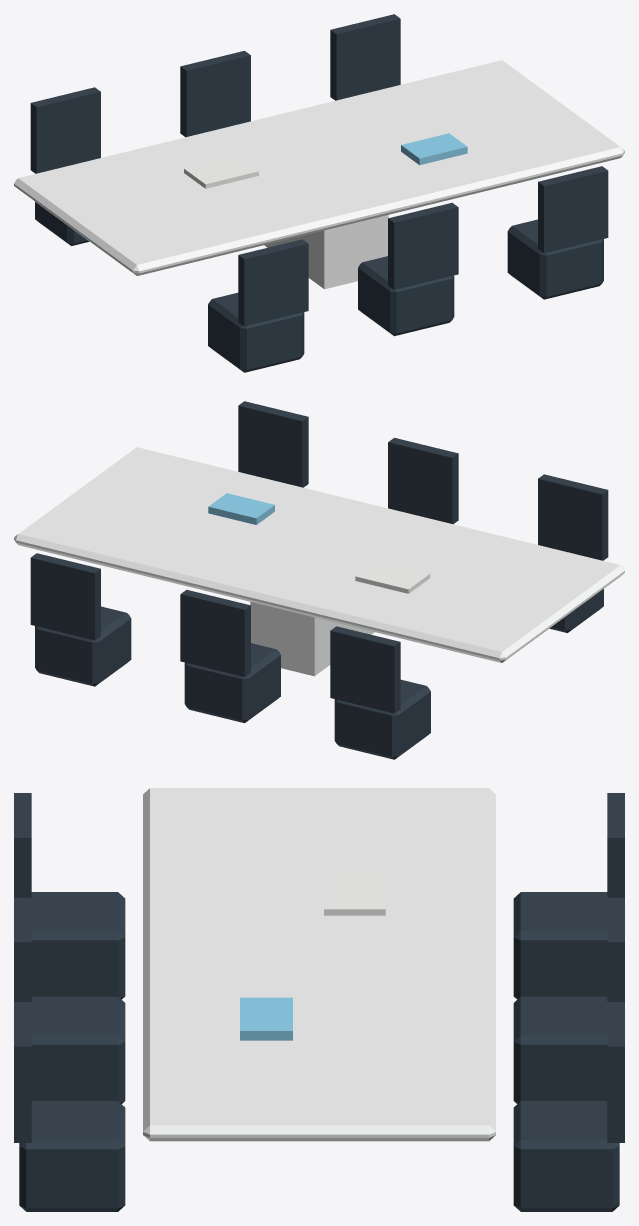
The model's file is conference.fbx.
3 views of the same model, one above another, from view 1: azimuth 30°, elevation 25°; view 2: azimuth 150°, elevation 25°; view 3: azimuth 270°, elevation 25° (orthographic). The views are drawn at different scales.
Parts seen in each view (by area): view 1: conference; view 2: conference; view 3: conference.
Boxes of the visible parts, x1,y1,x2,y2 form: conference: (14,14,624,372); conference: (14,401,624,759); conference: (14,788,624,1211).
Bounding box in the file's own units: 4.6 × 1.05 × 3.46.
